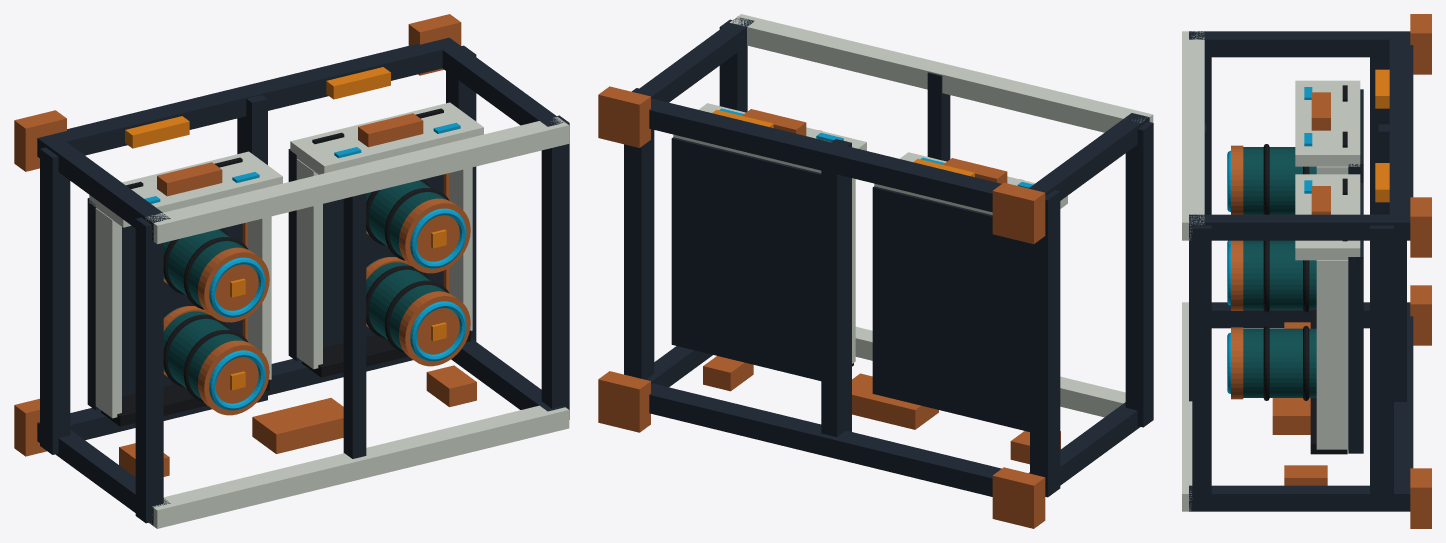
3 renders of one model, left to right at view 1: azimuth 30°, elevation 25°; view 2: azimuth 150°, elevation 25°; view 3: azimuth 270°, elevation 25°, orthographic. The views are drawn at different scales.
Visible parts, largest first — view 1: UpperCrossbar_1, UpperCrossbar_-1, LowerCrossbar_1, LowerSideRail_-1, UpperSideRail_-1, UpperSideRail_1, CentralTopRib, R_Tray, L_TraySide_-1, L_Tray, R_FrontFascia, R_TraySide_-1 (+33 smaller); view 2: L_Tray, R_Tray, UpperCrossbar_1, LowerCrossbar_1, LowerCrossbar_-1, LowerSideRail_-1, UpperSideRail_-1, CentralFloorRail, LowerSideRail_1, CornerPost_1_1, CornerPost_-1_1, MountFoot_-1_-1 (+15 smaller); view 3: LowerSideRail_1, R_TraySide_1, UpperSideRail_1, CornerPost_1_1, CornerPost_-1_1, CornerPost_1_-1, L_FrontFascia, LowerCrossbar_1, UpperCrossbar_1, R_Cell_0_Body, R_Cell_1_Body, L_Cell_1_Body (+29 smaller).
Boxes of the visible parts, bbox=[...] form: UpperCrossbar_1: bbox=[145, 117, 569, 244]; UpperCrossbar_-1: bbox=[149, 405, 569, 528]; LowerCrossbar_1: bbox=[38, 38, 458, 155]; LowerSideRail_-1: bbox=[40, 147, 70, 454]; UpperSideRail_-1: bbox=[135, 217, 163, 523]; UpperSideRail_1: bbox=[541, 115, 569, 419]; CentralTopRib: bbox=[343, 193, 366, 458]; R_Tray: bbox=[288, 149, 443, 361]; L_TraySide_-1: bbox=[95, 208, 121, 418]; L_Tray: bbox=[87, 198, 242, 410]; R_FrontFascia: bbox=[290, 102, 483, 174]; R_TraySide_-1: bbox=[296, 159, 322, 369]; L_Tray: bbox=[872, 186, 1029, 431]; R_Tray: bbox=[671, 137, 821, 380]; UpperCrossbar_1: bbox=[730, 14, 1153, 132]; LowerCrossbar_1: bbox=[649, 98, 1001, 212]; LowerCrossbar_-1: bbox=[649, 383, 1001, 496]; LowerSideRail_-1: bbox=[1030, 190, 1060, 497]; UpperSideRail_-1: bbox=[1125, 121, 1153, 427]; CentralFloorRail: bbox=[821, 139, 851, 436]; LowerSideRail_1: bbox=[624, 88, 654, 379]; CornerPost_1_1: bbox=[634, 17, 754, 102]; CornerPost_-1_1: bbox=[1028, 113, 1149, 200]; MountFoot_-1_-1: bbox=[992, 467, 1045, 528]; LowerSideRail_1: bbox=[1370, 225, 1393, 511]; R_TraySide_1: bbox=[1316, 260, 1348, 449]; UpperSideRail_1: bbox=[1192, 225, 1211, 511]; CornerPost_1_1: bbox=[1189, 214, 1410, 240]; CornerPost_-1_1: bbox=[1189, 31, 1410, 57]; CornerPost_1_-1: bbox=[1189, 485, 1410, 511]; L_FrontFascia: bbox=[1295, 80, 1360, 166]; LowerCrossbar_1: bbox=[1389, 31, 1413, 240]; UpperCrossbar_1: bbox=[1182, 31, 1204, 240]; R_Cell_0_Body: bbox=[1243, 328, 1316, 397]; R_Cell_1_Body: bbox=[1243, 240, 1316, 309]; L_Cell_1_Body: bbox=[1243, 147, 1316, 214].
Size of the model in its own units: 1.11 by 0.795 by 0.576.
